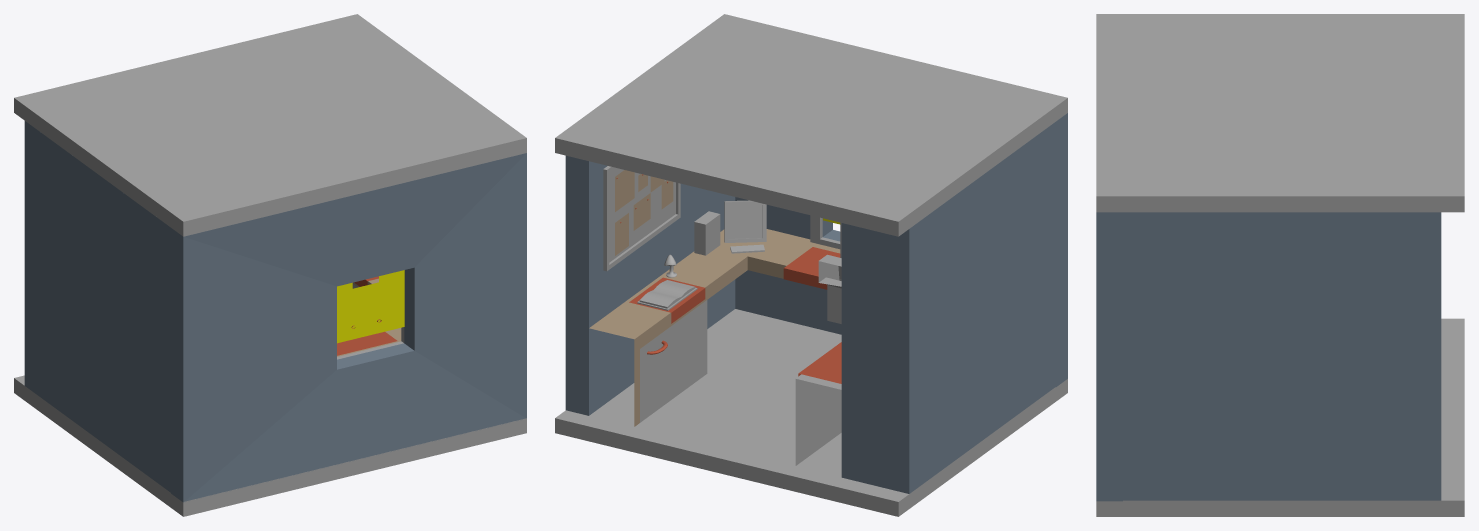
The model's file is Block1.fbx.
3 renders of one model, left to right at view 1: azimuth 30°, elevation 25°; view 2: azimuth 150°, elevation 25°; view 3: azimuth 270°, elevation 25°, orthographic. The views are drawn at different scales.
Visible parts, largest first — view 1: FarWall2, Roof, Wall_R1, Floor, BlastDoor1, Desk1; view 2: Roof, Wall_R1, Floor, Wall_L, Desk1, FarWall2, NoteBoard1, Bin1, Tablet_Work_Area_R, Computer1, Pipes1, Book; view 3: Wall_L, Roof, Floor, FarWall2.
Part boxes in pixels (left/top/right/bottom): FarWall2: left=171, top=153, right=526, bottom=502; Roof: left=14, top=14, right=526, bottom=236; Wall_R1: left=24, top=121, right=170, bottom=492; Floor: left=14, top=375, right=526, bottom=516; BlastDoor1: left=337, top=270, right=404, bottom=343; Desk1: left=337, top=276, right=401, bottom=356; Roof: left=555, top=14, right=1067, bottom=236; Wall_R1: left=841, top=122, right=1055, bottom=493; Floor: left=555, top=309, right=1067, bottom=516; Wall_L: left=565, top=155, right=735, bottom=415; Desk1: left=589, top=229, right=840, bottom=426; FarWall2: left=735, top=113, right=1067, bottom=387; NoteBoard1: left=603, top=166, right=680, bottom=271; Bin1: left=640, top=300, right=707, bottom=422; Tablet_Work_Area_R: left=795, top=342, right=841, bottom=465; Computer1: left=694, top=200, right=766, bottom=255; Pipes1: left=818, top=222, right=841, bottom=323; Book: left=637, top=280, right=697, bottom=310; Wall_L: left=1123, top=212, right=1441, bottom=500; Roof: left=1096, top=14, right=1464, bottom=212; Floor: left=1096, top=318, right=1464, bottom=516; FarWall2: left=1096, top=212, right=1122, bottom=501.
Bounding box in the file's own units: 389 × 319 × 332.
